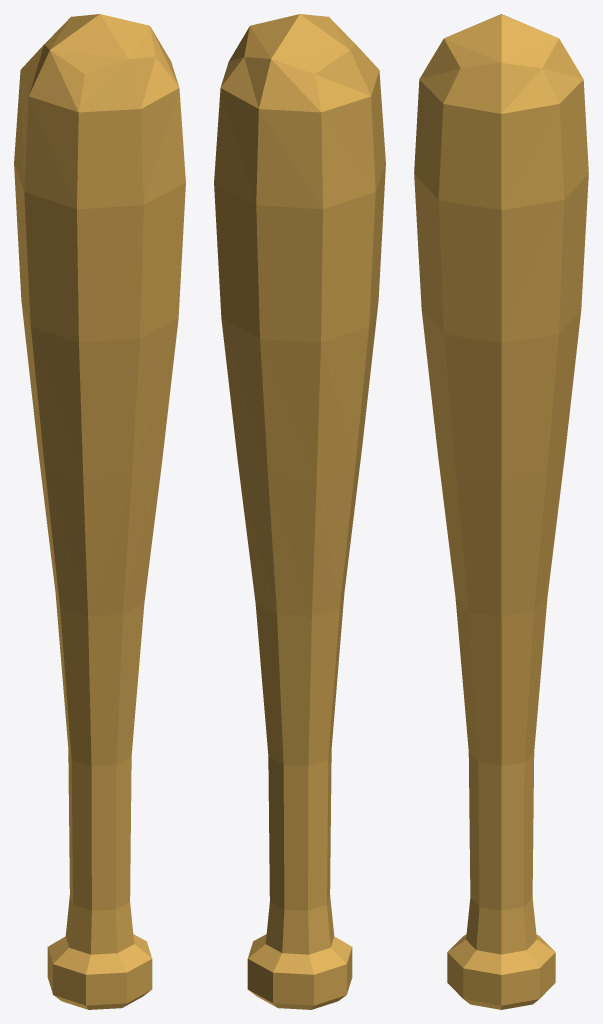
File: 1b4d4d39-ce88-48d3-9f3c-defda5f7f873.glb
The picture shows the model from 3 angles, left to right: view 1: azimuth 30°, elevation 25°; view 2: azimuth 150°, elevation 25°; view 3: azimuth 270°, elevation 25°; orthographic projection.
Visible parts, largest first — view 1: Node; view 2: Node; view 3: Node.
Part boxes in pixels (x1,y1,x2,y2): Node: (14,14,185,1009); Node: (214,14,385,1009); Node: (414,14,588,1009).
Size of the model in its own units: 0.7362 by 4.54 by 0.7362.
